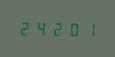four: (33, 19, 47, 36)
one: (78, 20, 92, 37)
two: (48, 19, 62, 37), (18, 19, 32, 36)
zero: (63, 20, 77, 37)
